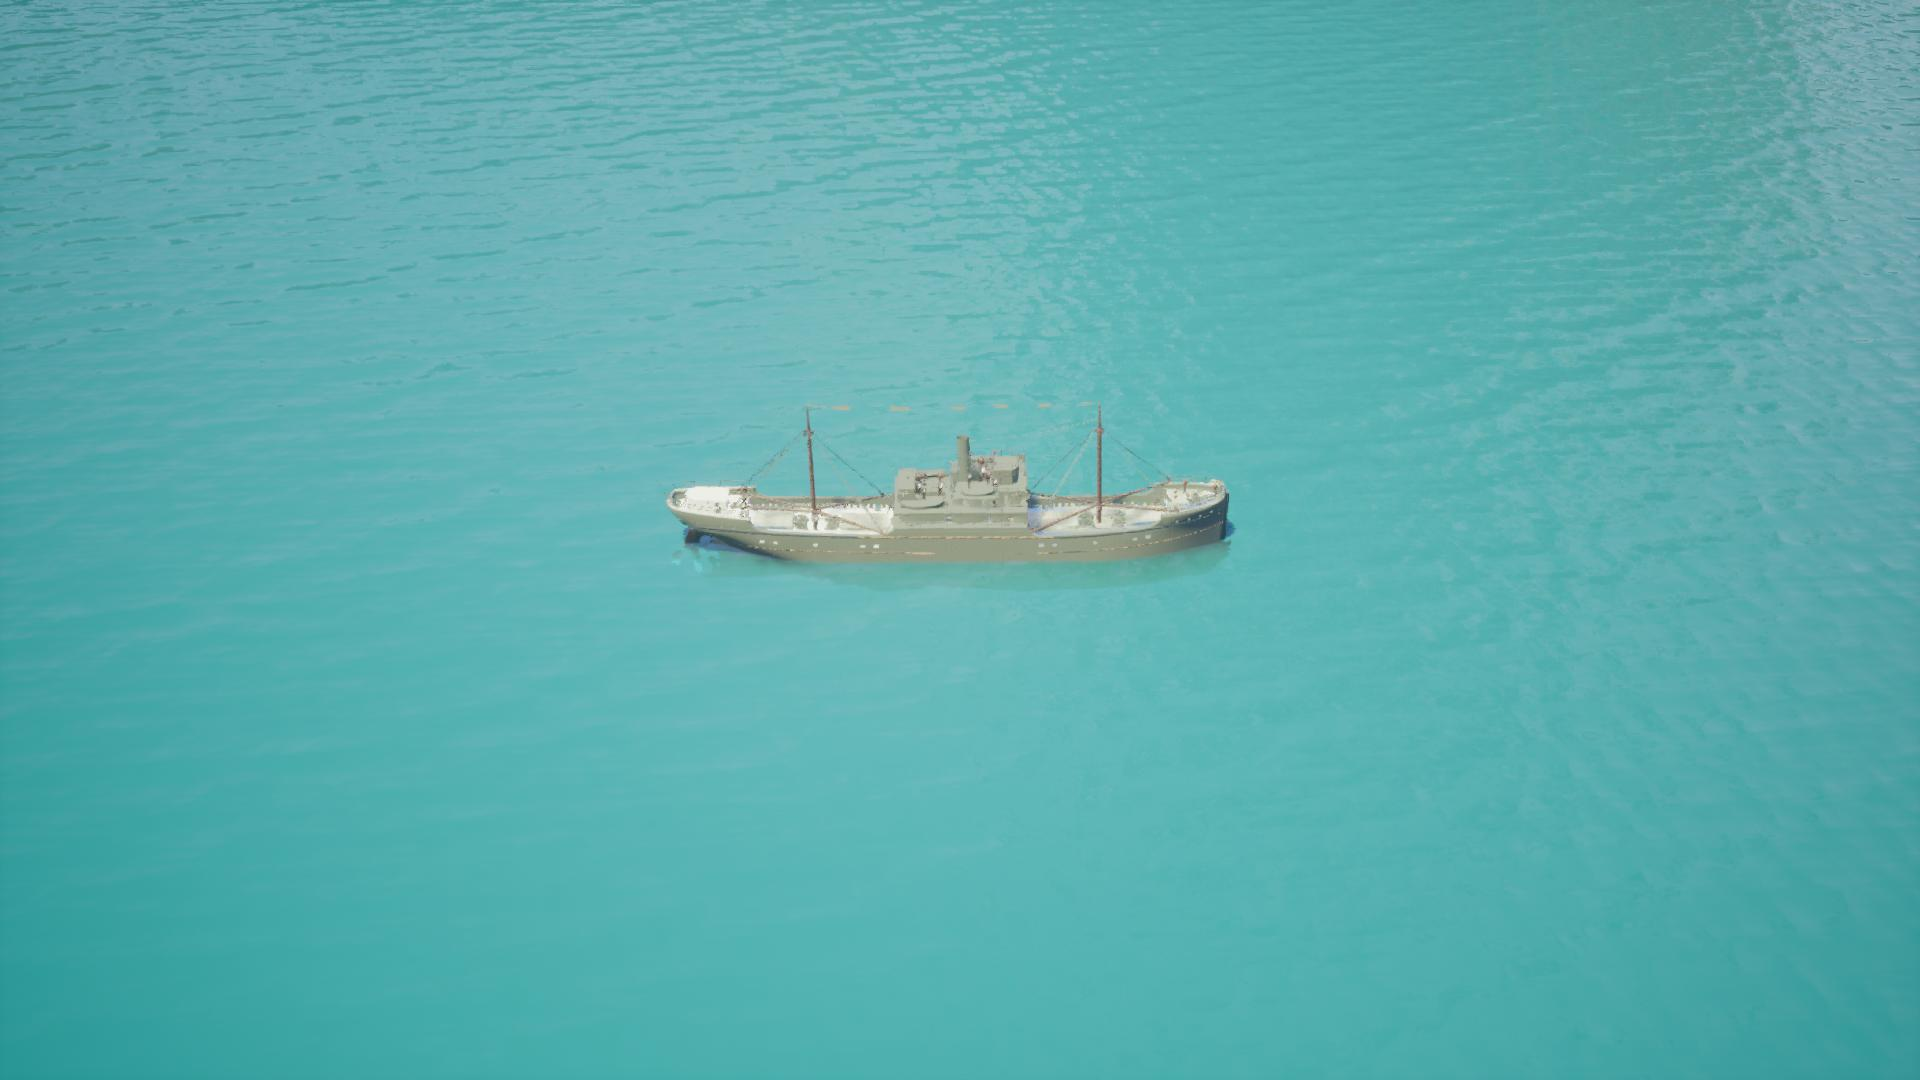Fishing Boat: (665, 411, 1236, 568)
